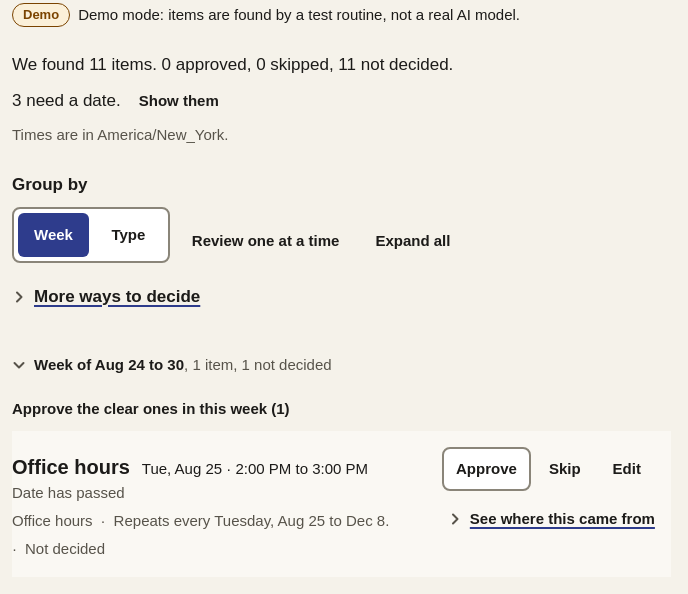
Test case: Review list (F1) › 'Show them' expands the Needs a date group and focuses its heading button
The width and height of the screenshot is (688, 594).
Expected: the text "We found 11 items. 0 approved, 0 skipped, 11 not decided." is shown, [12, 51, 453, 79]
Click the button "Show them".
click(179, 101)  # box [125, 79, 233, 123]
(page scrolled)
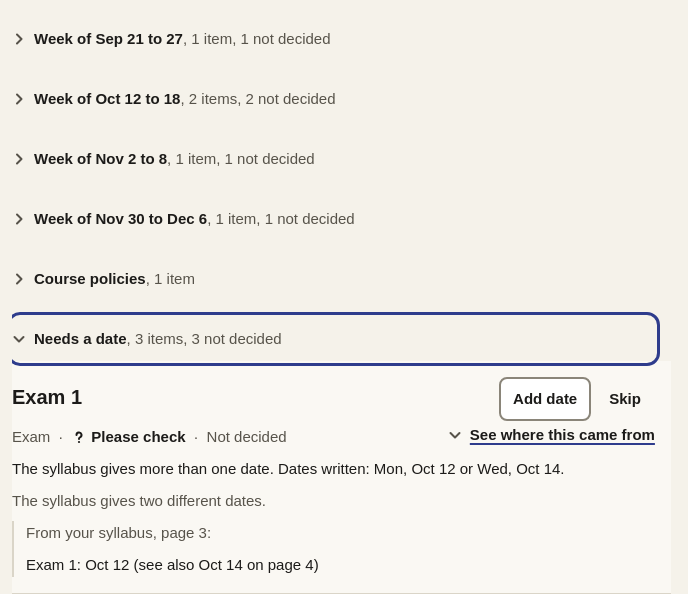
Result: the button "Needs a date, 3 items, 3 not decided" is expanded at [12, 317, 655, 361]
